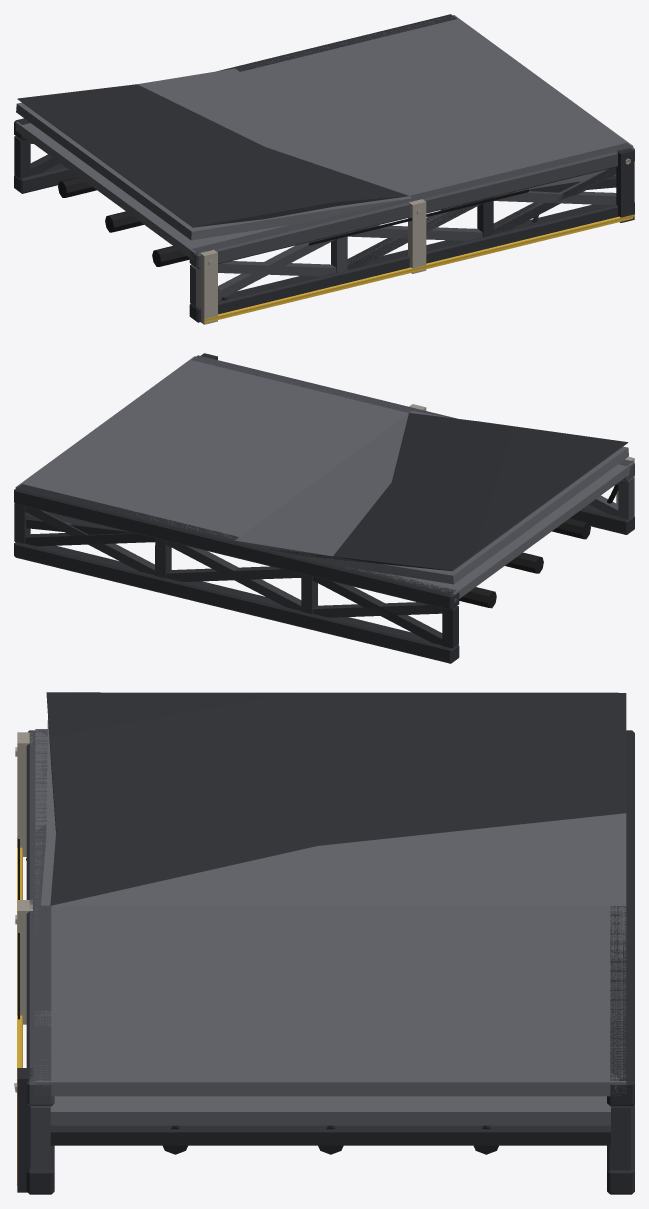
File: nvg_cmp_cable_bridge_a.glb
The picture shows the model from 3 angles, top to bottom: view 1: azimuth 30°, elevation 25°; view 2: azimuth 150°, elevation 25°; view 3: azimuth 270°, elevation 25°; orthographic projection. The views are drawn at different scales.
Parts seen in each view (by area): view 1: mesh_heavy, mesh_intact, mesh_light; view 2: mesh_heavy, mesh_intact, mesh_light; view 3: mesh_heavy, mesh_intact, mesh_light.
Boxes of the visible parts, <box> form: mesh_heavy: <box>14,14,634,324</box>; mesh_intact: <box>15,15,633,324</box>; mesh_light: <box>16,68,616,303</box>; mesh_heavy: <box>14,353,634,663</box>; mesh_intact: <box>15,356,634,602</box>; mesh_light: <box>26,411,634,584</box>; mesh_heavy: <box>14,692,634,1194</box>; mesh_intact: <box>15,729,626,1096</box>; mesh_light: <box>17,719,626,1125</box>.
Bounding box in the file's own units: 1.6 × 0.32 × 1.19.
